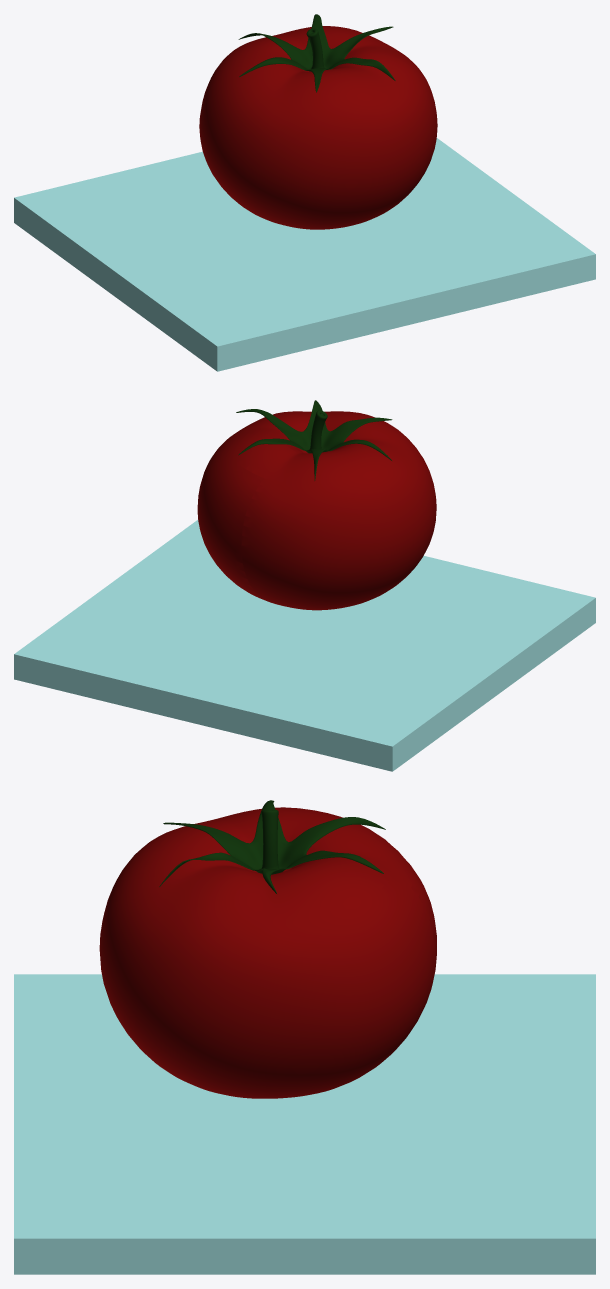
The model's file is tomate.DAE.
3 views of the same model, one above another, from view 1: azimuth 30°, elevation 25°; view 2: azimuth 150°, elevation 25°; view 3: azimuth 270°, elevation 25° (orthographic). The views are drawn at different scales.
Visible parts, largest first — view 1: Box001, Tomato_01; view 2: Box001, Tomato_01; view 3: Box001, Tomato_01.
Part boxes in pixels (left/top/right/bottom): Box001: left=14, top=138, right=595, bottom=371; Tomato_01: left=199, top=14, right=437, bottom=229; Box001: left=14, top=520, right=595, bottom=771; Tomato_01: left=197, top=400, right=436, bottom=610; Box001: left=14, top=974, right=595, bottom=1274; Tomato_01: left=99, top=800, right=436, bottom=1098.
Bounding box in the file's own units: 141 × 131 × 82.44.
